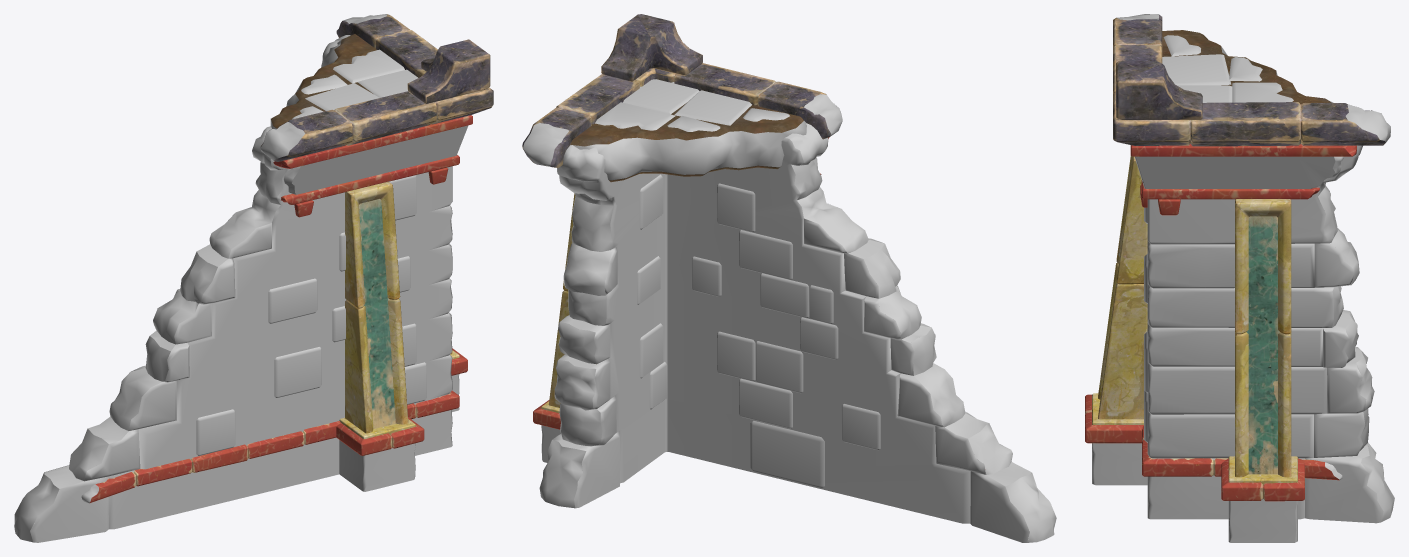
The picture shows the model from 3 angles, left to right: view 1: azimuth 30°, elevation 25°; view 2: azimuth 150°, elevation 25°; view 3: azimuth 270°, elevation 25°; orthographic projection. The views are drawn at different scales.
Visible parts, largest first — view 1: SM_Menaphite_Ruins_02_LOD0; view 2: SM_Menaphite_Ruins_02_LOD0; view 3: SM_Menaphite_Ruins_02_LOD0.
Boxes of the visible parts, x1,y1,x2,y2 form: SM_Menaphite_Ruins_02_LOD0: (14,14,493,542); SM_Menaphite_Ruins_02_LOD0: (522,14,1056,542); SM_Menaphite_Ruins_02_LOD0: (1085,14,1394,542).
Size of the model in its own units: 11.14 by 9.04 by 5.61.
